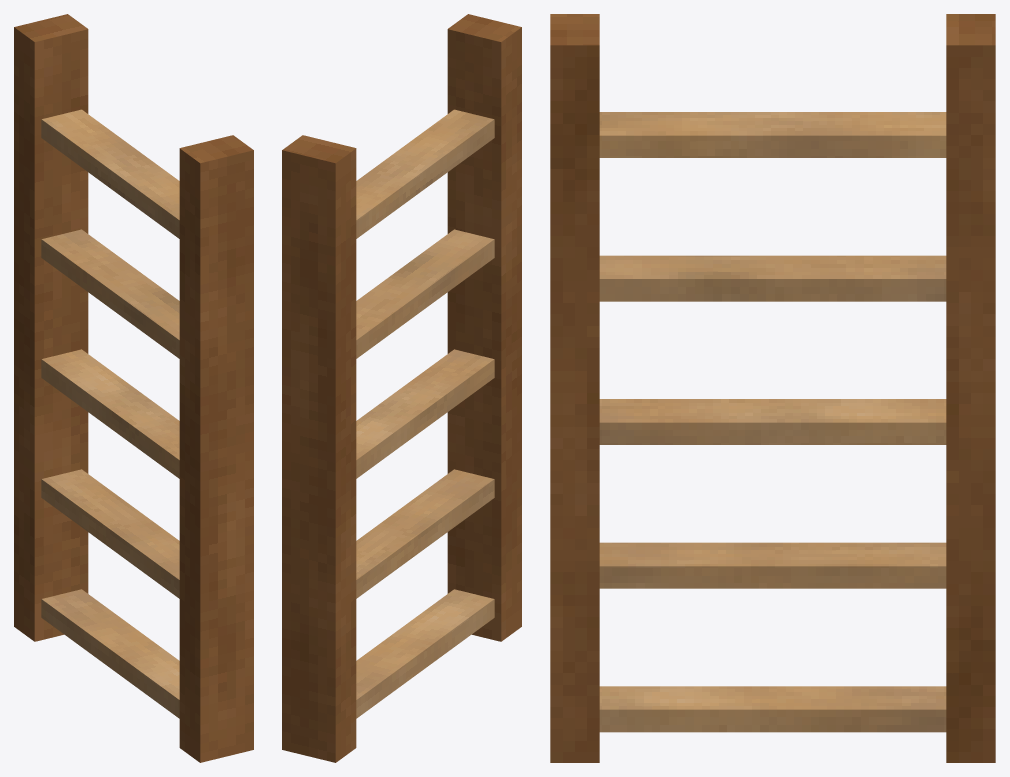
Rendered from Docks_Ladder_Middle_1x1.glb.
3 views of the same model, side by side, from view 1: azimuth 30°, elevation 25°; view 2: azimuth 150°, elevation 25°; view 3: azimuth 270°, elevation 25° (orthographic). The views are drawn at different scales.
Visible parts, largest first — view 1: Docks_Ladder_Middle_1x1; view 2: Docks_Ladder_Middle_1x1; view 3: Docks_Ladder_Middle_1x1.
Boxes of the visible parts, left/top/right/bottom form: Docks_Ladder_Middle_1x1: left=14, top=14, right=253, bottom=762; Docks_Ladder_Middle_1x1: left=282, top=14, right=521, bottom=762; Docks_Ladder_Middle_1x1: left=550, top=14, right=995, bottom=762.
Size of what is drawn, in the model's own units: 9.38 by 100 by 56.25.
3 materials, 3 textured.
